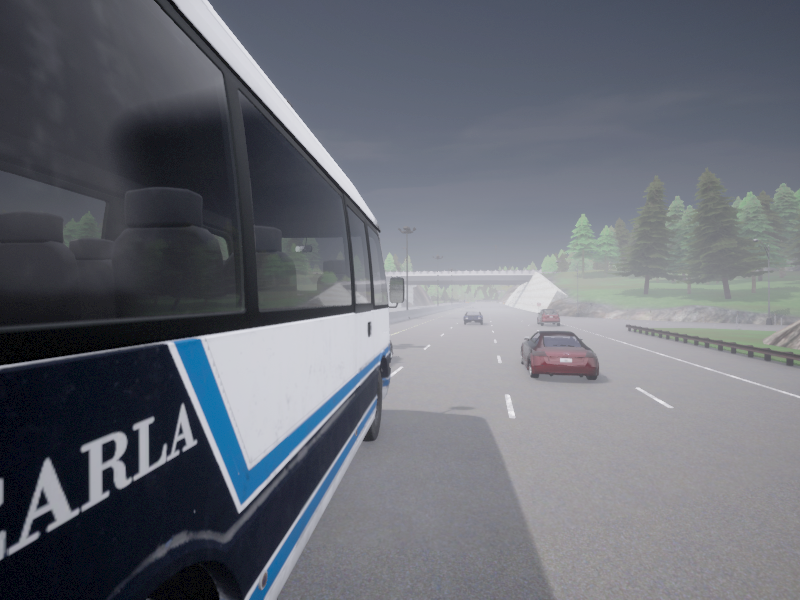vehicle: (0, 0, 404, 599), (520, 331, 598, 379), (537, 309, 559, 325), (463, 311, 482, 324), (390, 340, 392, 358)
